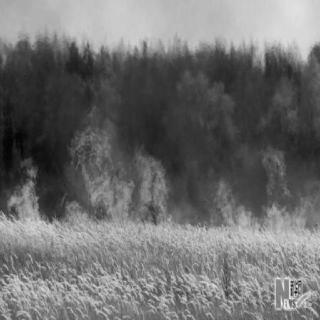Fire: (212, 159, 310, 241)
